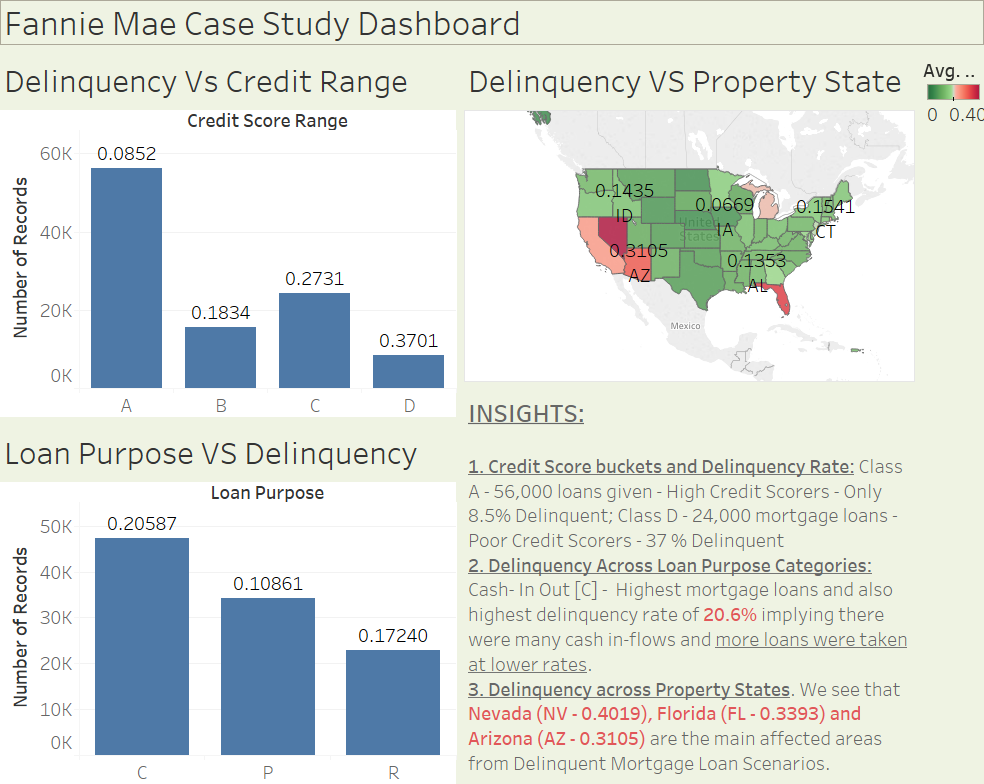

This screenshot's page, from the dashboard's own definition file:
{"tool":"tableau","page":{"name":"Fannie Mae Case Study Dashboard","canvas":[1000,800],"ordinal":0},"visuals":[{"type":"title","box":[0,0,1000,57]},{"type":"worksheet","title":"Delinquency VS Credit Score Range","mark":"Automatic","rows":["Number of Records"],"cols":["Credit Score Range"],"box":[0,57,468,371.5]},{"type":"worksheet","title":"Delinquency VS Property State","mark":"Automatic","box":[468,57,459,337.1]},{"type":"legend","title":"Delinquency VS Property State","param":"[federated.0u3x4rm0ain80k138vuc00ov0vrw].[avg:DELINQUENCY_STATUS:qk]","box":[927,57,73,111]},{"type":"text","box":[468,394.1,459,405.9]},{"type":"worksheet","title":"Loan Purpose VS Delinquency","mark":"Automatic","rows":["Number of Records"],"cols":["LOAN_PURPOSE"],"box":[0,428.5,468,371.5]}]}

Visuals, with their boxes in screenshot pixels (x1, y1, x2, y2), scaled from the page's 1000x800 canvas onto the 984x784 screenshot:
title: (0, 0, 983, 56)
"Delinquency VS Credit Score Range" worksheet: (0, 56, 461, 420)
"Delinquency VS Property State" worksheet: (461, 56, 912, 386)
"Delinquency VS Property State" legend: (912, 56, 983, 165)
text: (461, 386, 912, 783)
"Loan Purpose VS Delinquency" worksheet: (0, 420, 461, 783)
